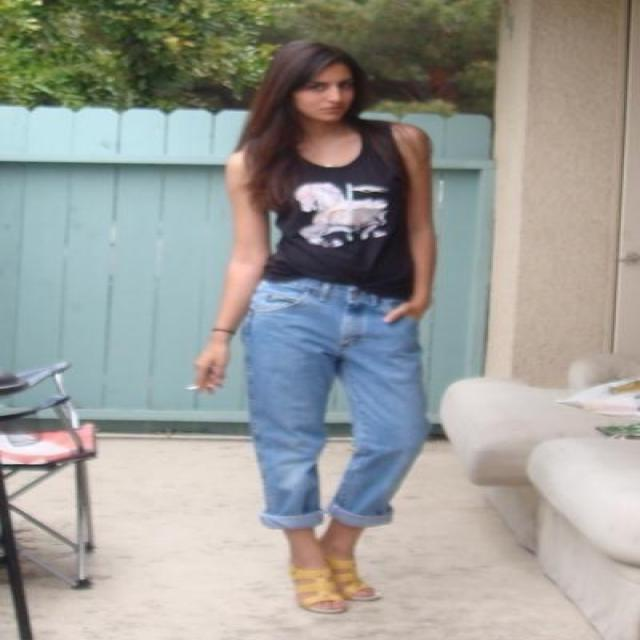pants: (230, 278, 448, 536)
shirt: (250, 115, 412, 301)
shoe: (291, 550, 379, 614)
